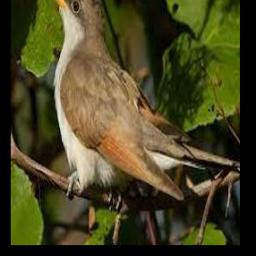Cuckoo: (44, 0, 204, 199)
